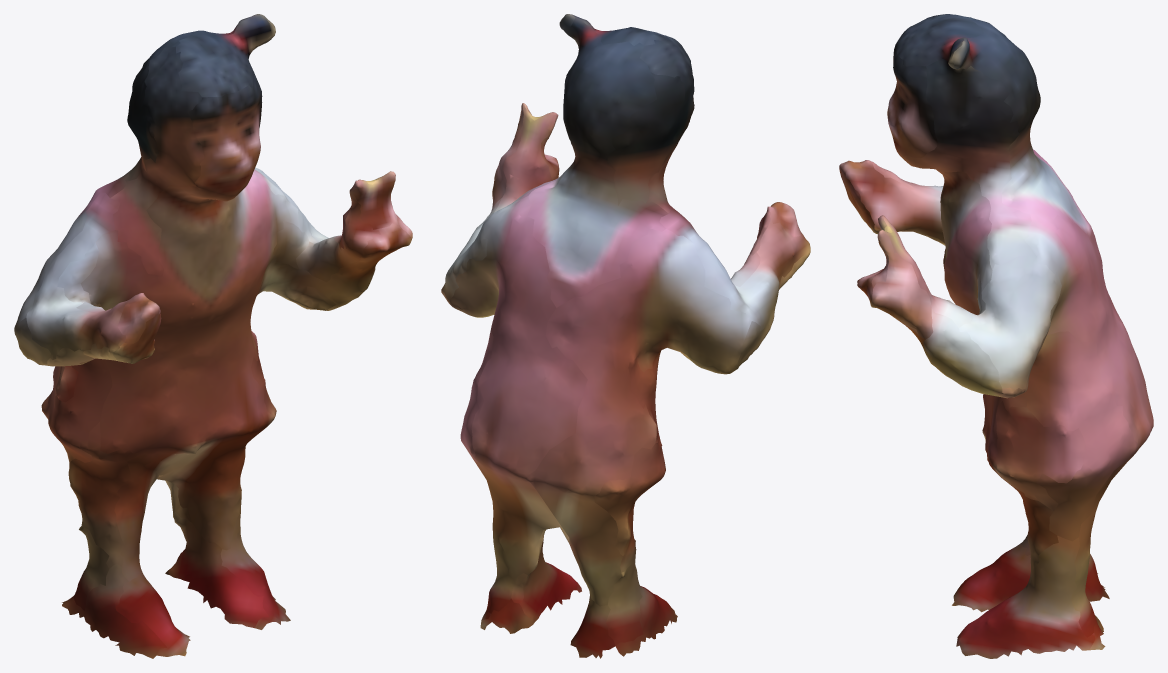
The model's file is dollC.glb.
The picture shows the model from 3 angles, left to right: view 1: azimuth 30°, elevation 25°; view 2: azimuth 150°, elevation 25°; view 3: azimuth 270°, elevation 25°; orthographic projection. The views are drawn at different scales.
Parts seen in each view (by area): view 1: Geom; view 2: Geom; view 3: Geom.
Boxes of the visible parts, left/top/right/bottom form: Geom: left=14, top=14, right=412, bottom=658; Geom: left=441, top=14, right=810, bottom=658; Geom: left=839, top=14, right=1153, bottom=658.
Bounding box in the file's own units: 0.0454 × 0.081 × 0.0384.
Materials: 1 (1 with a texture image).
